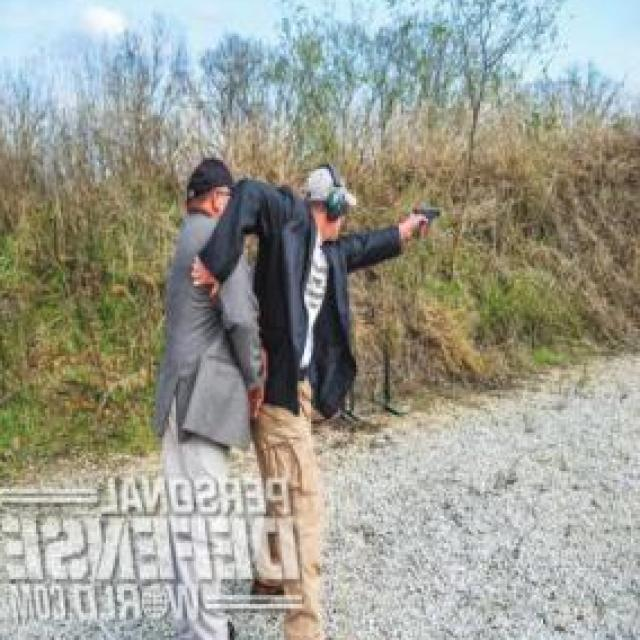pistol: (402, 205, 442, 239)
